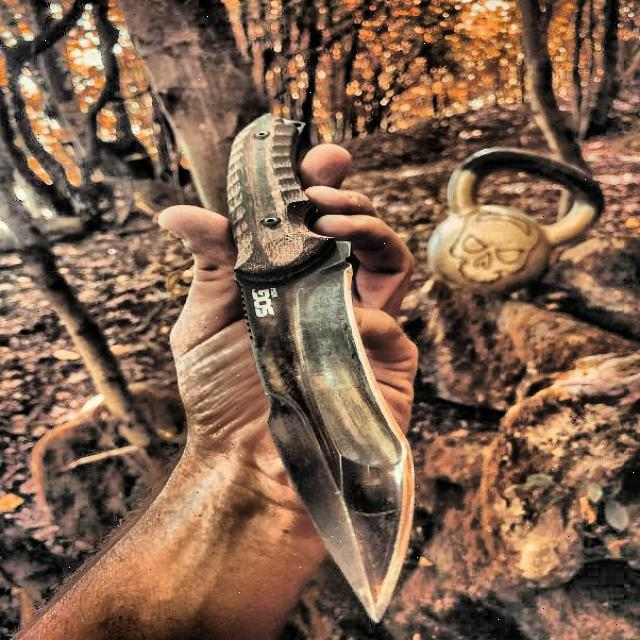knife: (217, 105, 423, 629)
